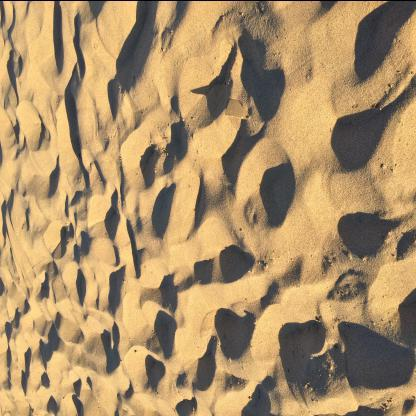karton: (226, 99, 251, 120)
